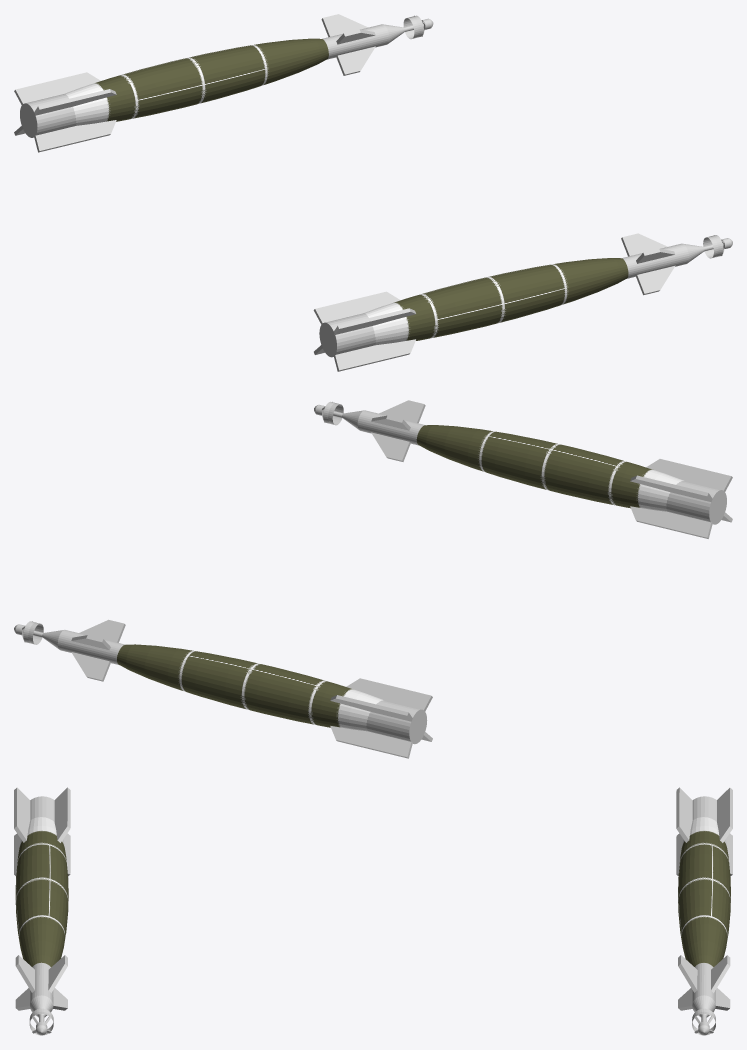
The model's file is f18fgbu1024.glb.
3 renders of one model, top to bottom at view 1: azimuth 30°, elevation 25°; view 2: azimuth 150°, elevation 25°; view 3: azimuth 270°, elevation 25°, orthographic. The views are drawn at different scales.
Parts seen in each view (by area): view 1: 球.003, 球.002; view 2: 球.003, 球.002; view 3: 球.002, 球.003.
Boxes of the visible parts, x1,y1,x2,y2 form: 球.003: (14,14,433,152); 球.002: (313,233,732,371); 球.003: (14,619,432,758); 球.002: (314,400,732,538); 球.002: (14,787,70,1035); 球.003: (676,787,732,1035).
Size of the model in its own units: 4.24 by 0.4634 by 5.89.
Materials: 1 (1 with a texture image).
